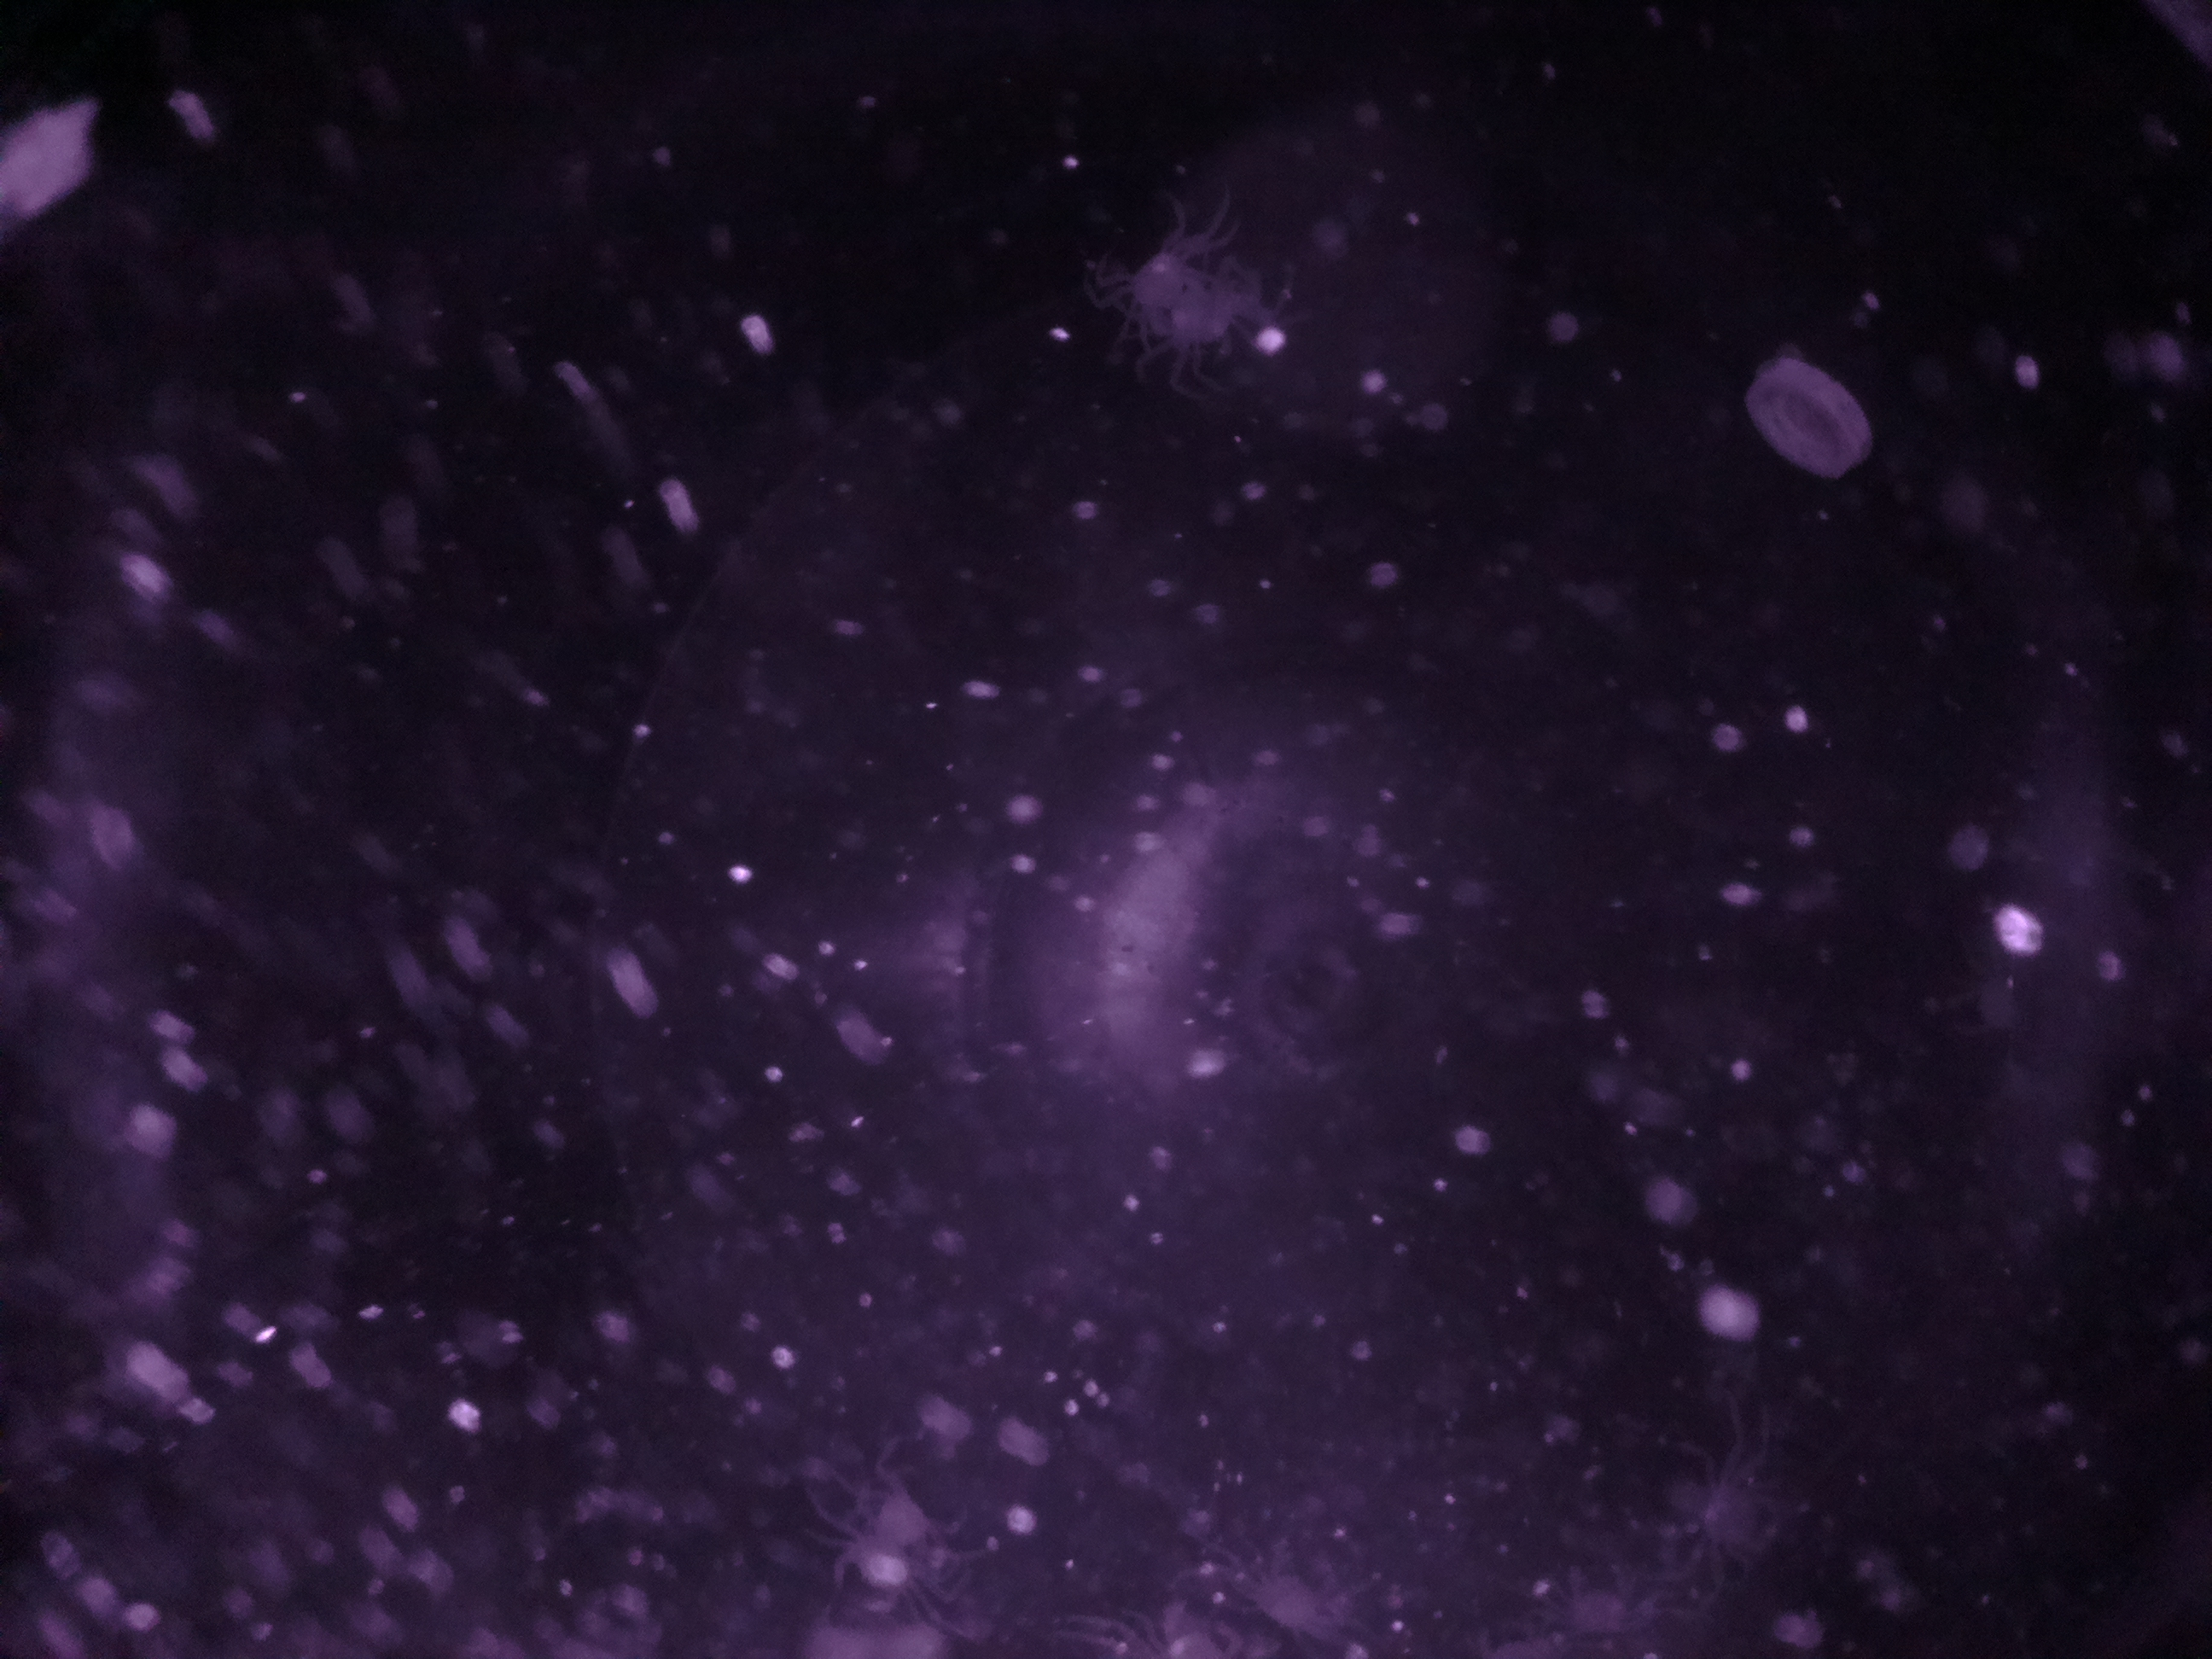Crab: (1252, 1523, 1346, 1645), (1108, 223, 1202, 331)
